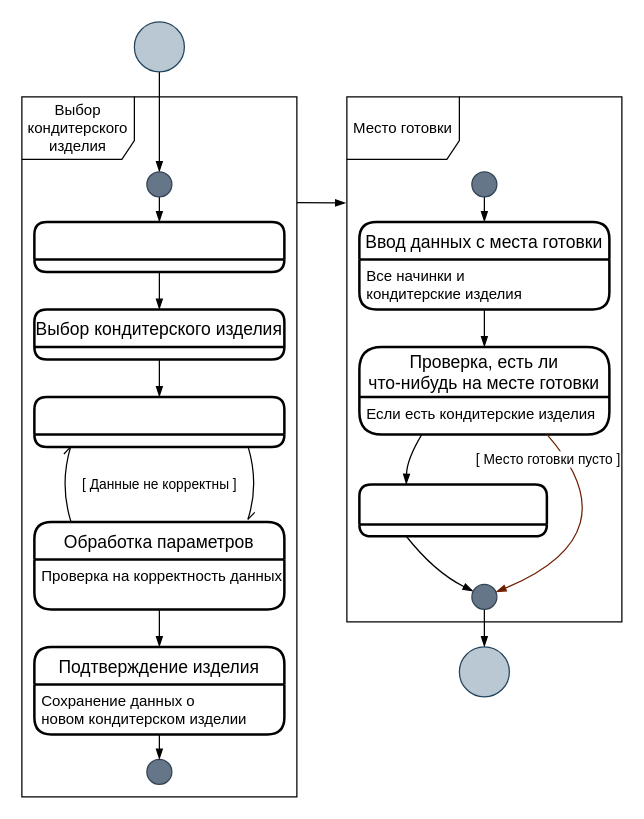
The diagram is 644 pixels wide and 819 high, and some of its shapes have lost their labels. The shapes that lost their labels are listed below. From the top down, each one's centre as x and y in pixels, then its label:
At [158,246]: "Ввод данных о пользователе".
At [158,421]: "Ввод параметров изделия".
At [453,509]: "Очистка места готовки".
